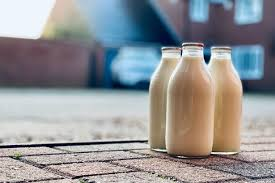milk: (210, 39, 250, 160), (169, 42, 215, 145)
